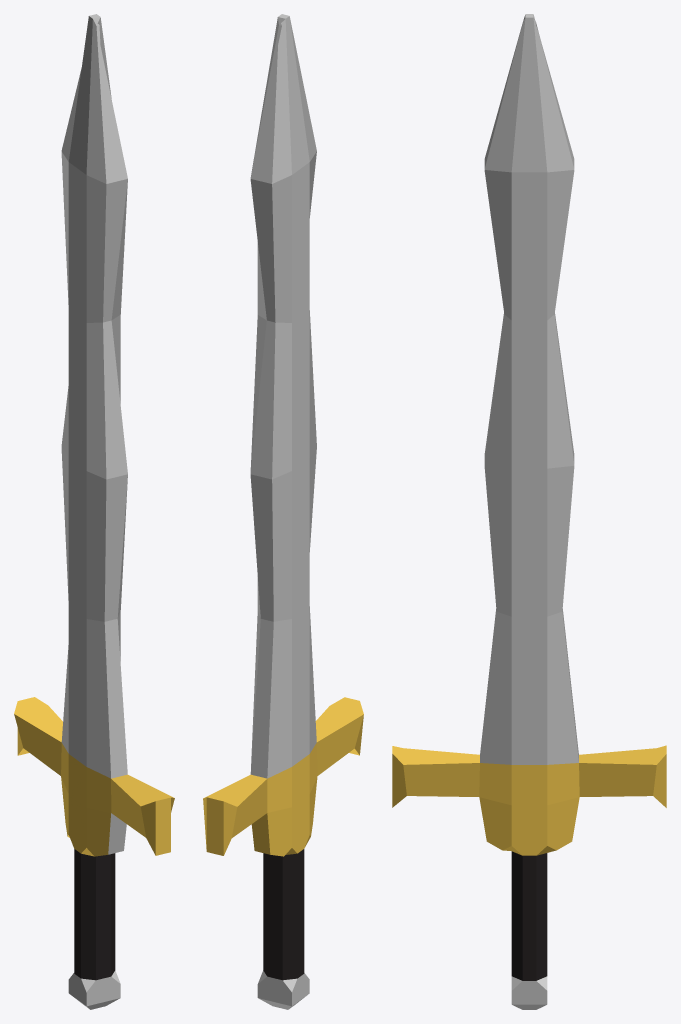
The model's file is sword.fbx.
3 views of the same model, side by side, from view 1: azimuth 30°, elevation 25°; view 2: azimuth 150°, elevation 25°; view 3: azimuth 270°, elevation 25° (orthographic).
Visible parts, largest first — view 1: Sword; view 2: Sword; view 3: Sword.
Boxes of the visible parts, box(x1,y1,x2,y2) form: Sword: box(14, 14, 174, 1009); Sword: box(203, 14, 363, 1009); Sword: box(392, 14, 666, 1009).
Size of the model in its own units: 3.28 by 90.37 by 22.7.
